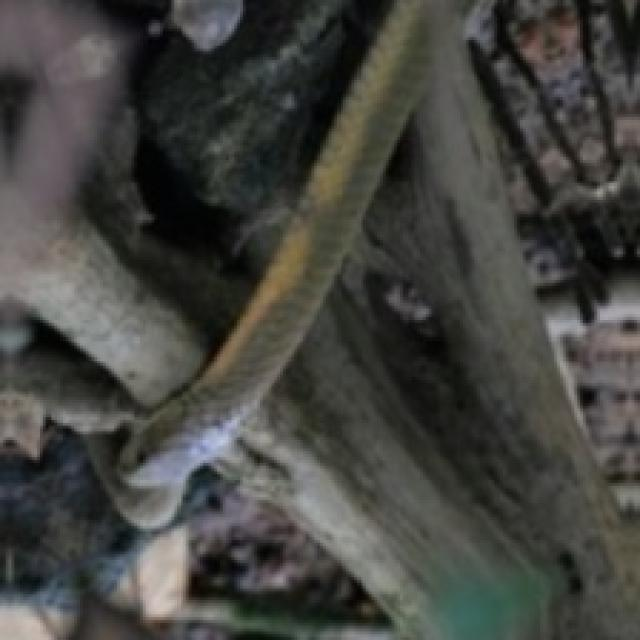king cobra: (121, 2, 457, 487)
